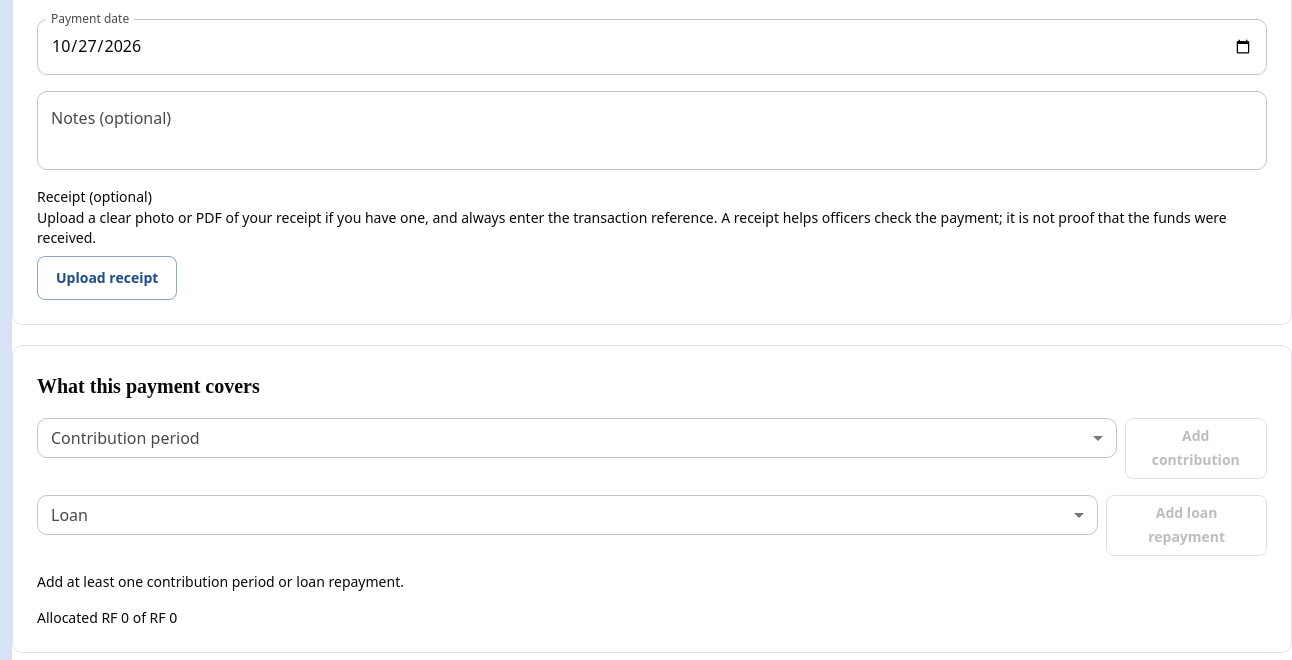
Test: PaymentSubmitPanel › shows due date, overdue amount and the expected hybrid split labelled as expected
(page scrolled)
Expected: the button "Add contribution" is shown, left=1124, top=418, right=1267, bottom=479
Click the 1st dropdown named "Contribution period": (577, 438) left=37, top=418, right=1116, bottom=458
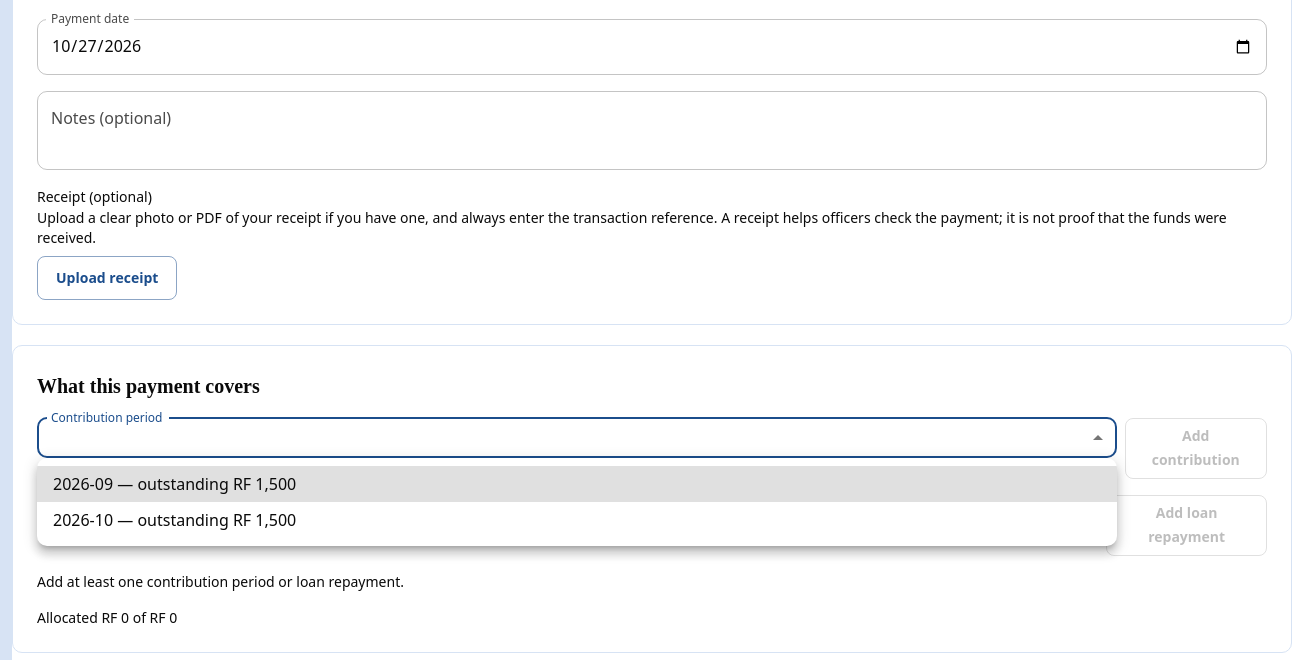
Click the option "2026-09 — outstanding RF 1,500": (175, 484) left=37, top=466, right=1117, bottom=502
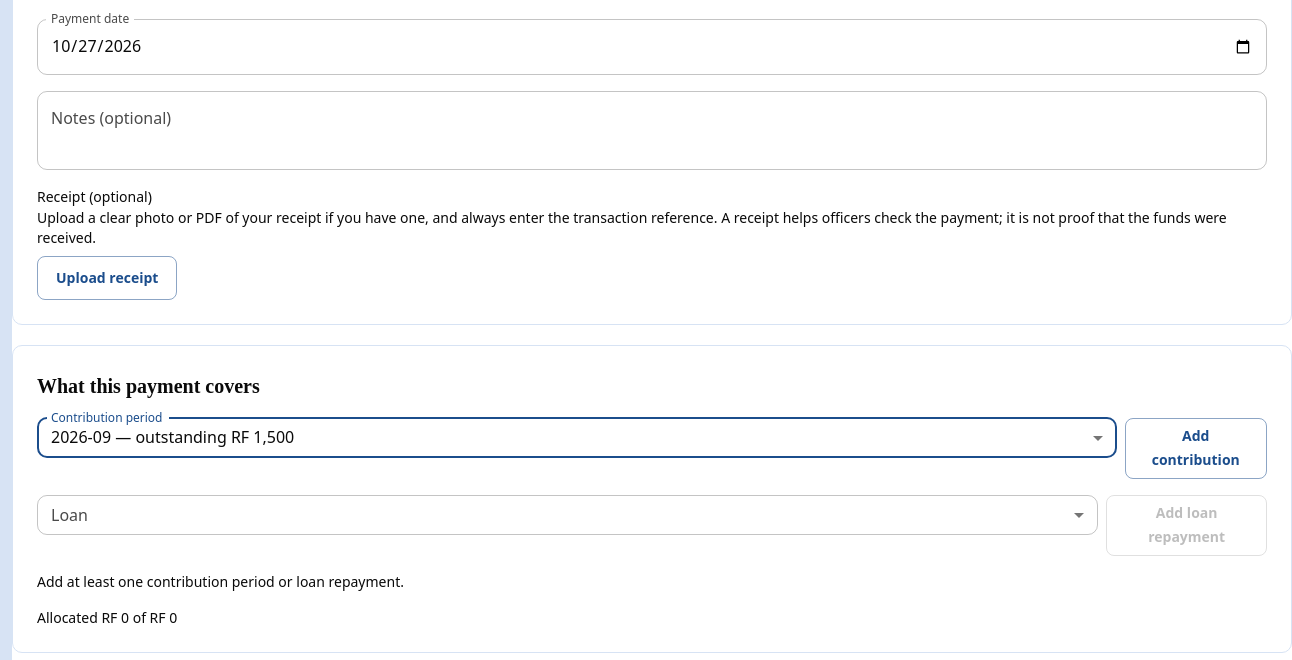
Click the button "Add contribution": (1196, 448) left=1124, top=418, right=1267, bottom=479
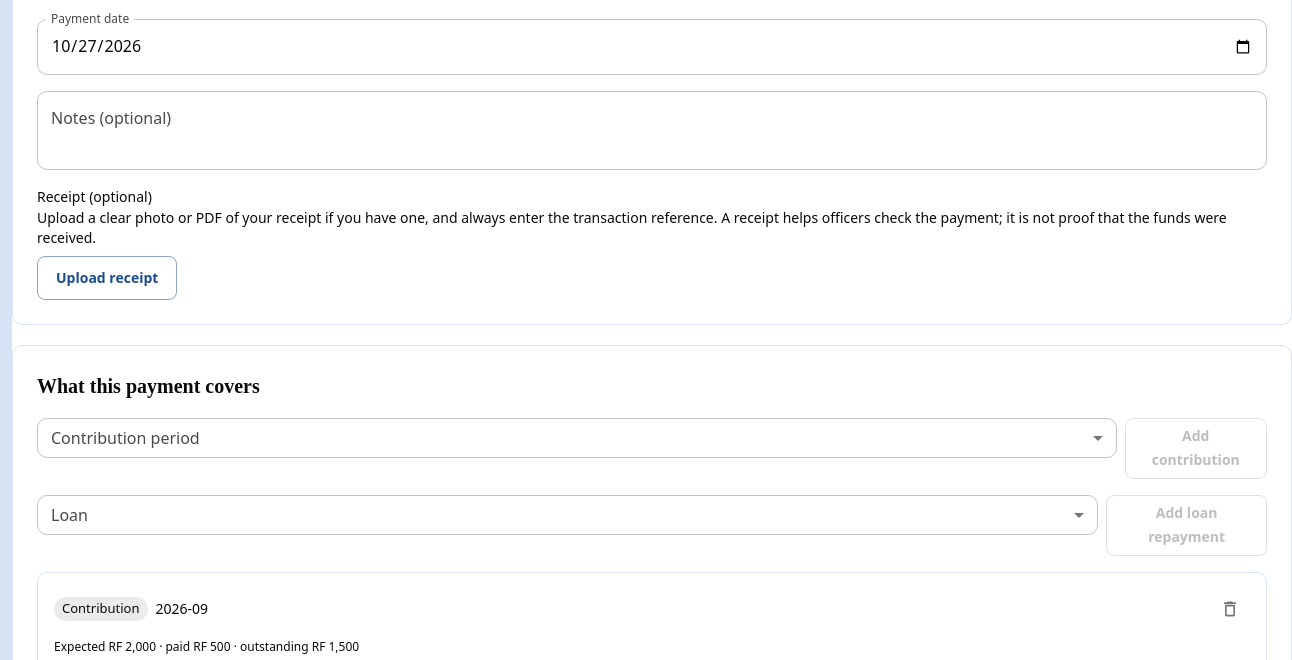
Click the dropdown named "Contribution period" next to "Contribution period": (577, 438) left=37, top=418, right=1116, bottom=458
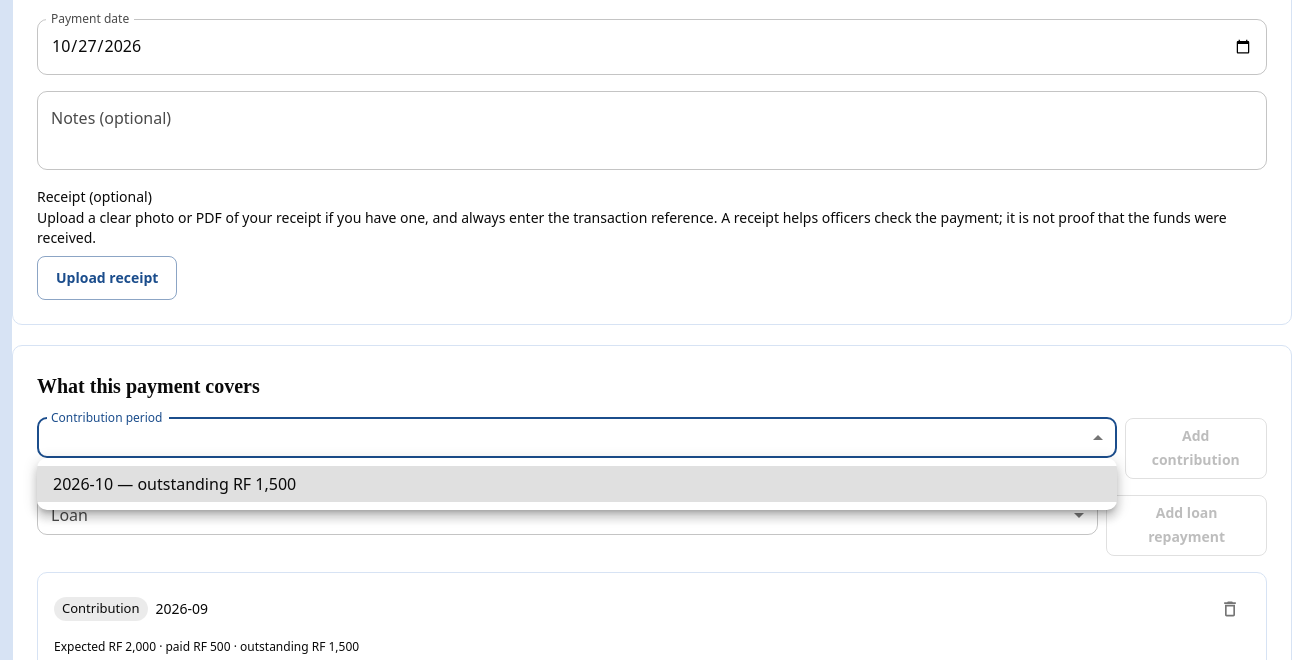
Click the option "2026-10 — outstanding RF 1,500": (175, 484) left=37, top=466, right=1117, bottom=502
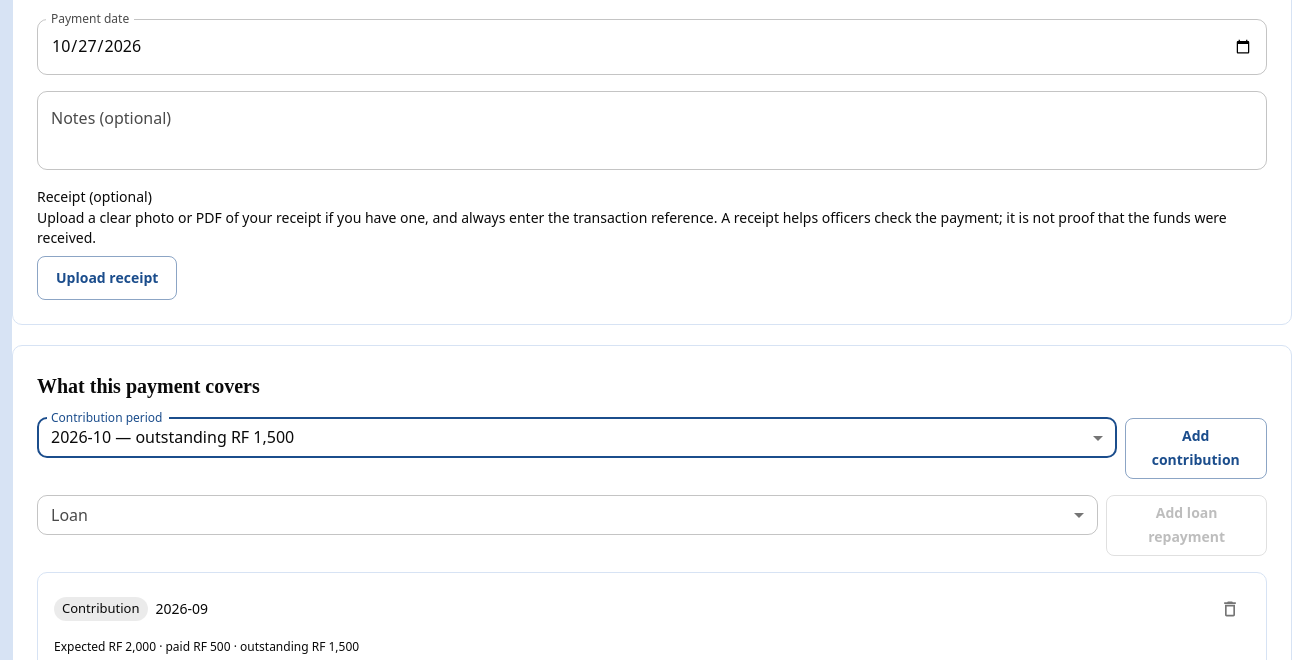
Click the button "Add contribution": (1196, 448) left=1124, top=418, right=1267, bottom=479
(page scrolled)
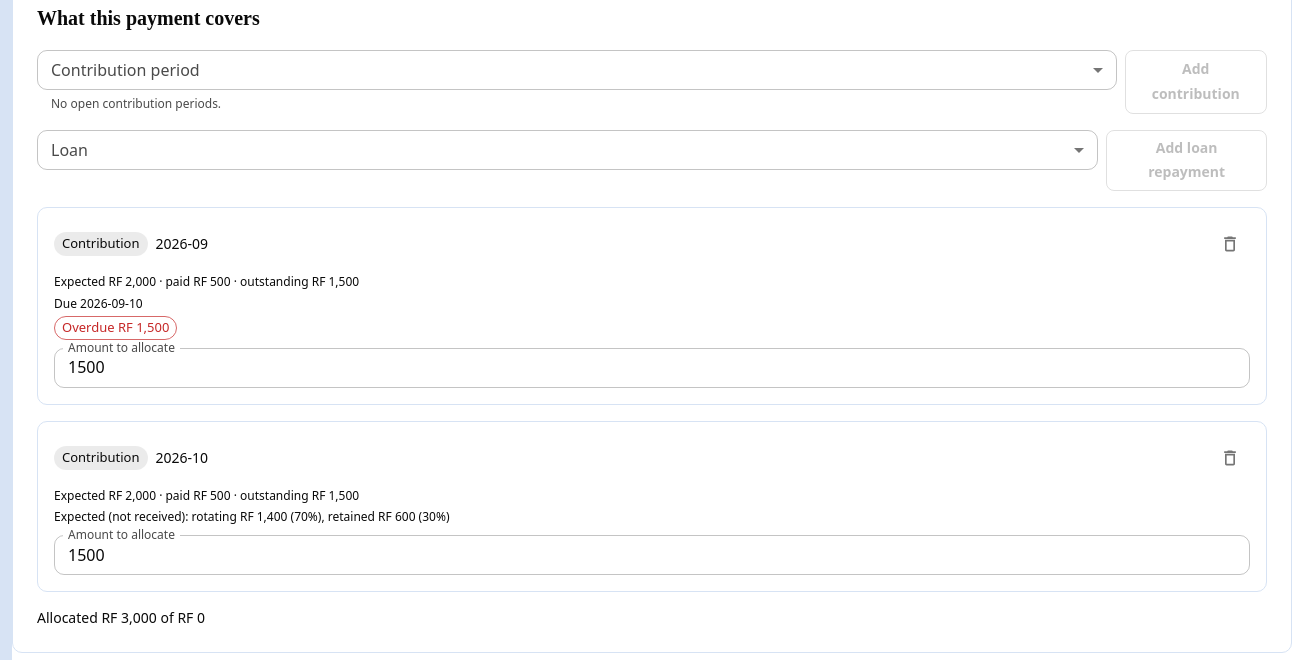
Now the text with test id "contribution-due-date" shows "2026-09-10", box left=54, top=295, right=143, bottom=312
Now the element with test id "contribution-overdue" is shown, box left=54, top=316, right=177, bottom=340
Now the number of elements with test id "payment-allocation-draft" is 2, box left=37, top=207, right=1267, bottom=405; left=37, top=421, right=1267, bottom=592
